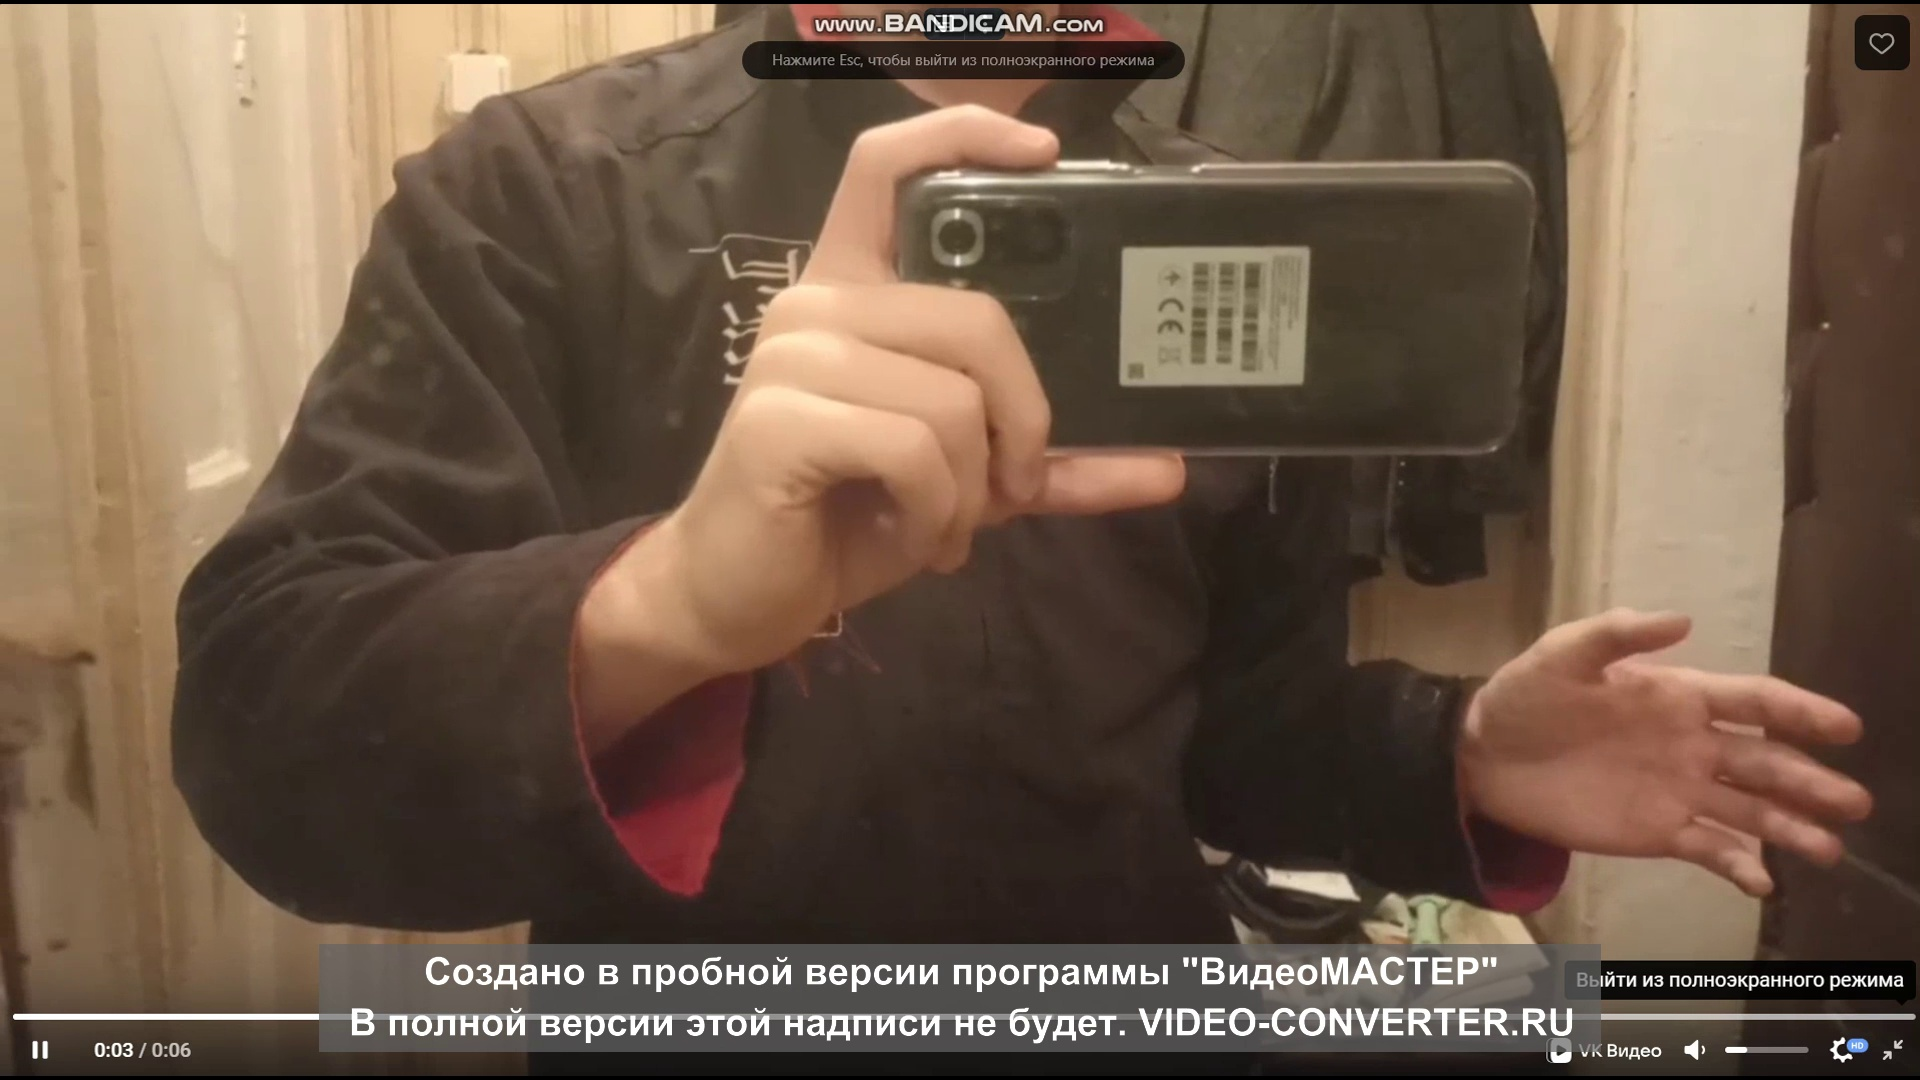Ладонь: (1482, 605, 1870, 902)
